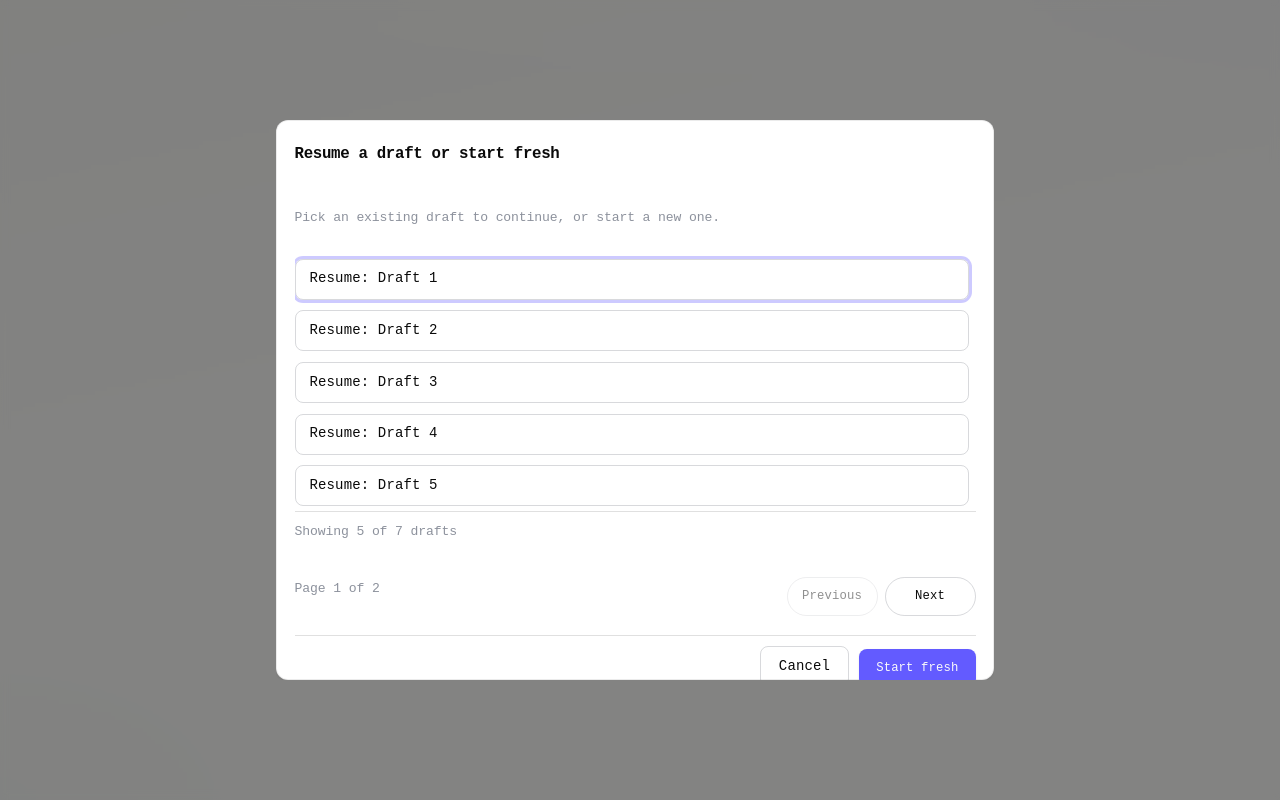
Test: DraftResumeModal › renders a paginated scrollable list of drafts
expect the list with class "draft-resume-list" is shown: met, box [294, 255, 976, 507]
expect the text "Page 1 of 2" is shown: met, box [294, 579, 380, 600]
Click the button "Next" at (930, 597), box [884, 577, 976, 616]
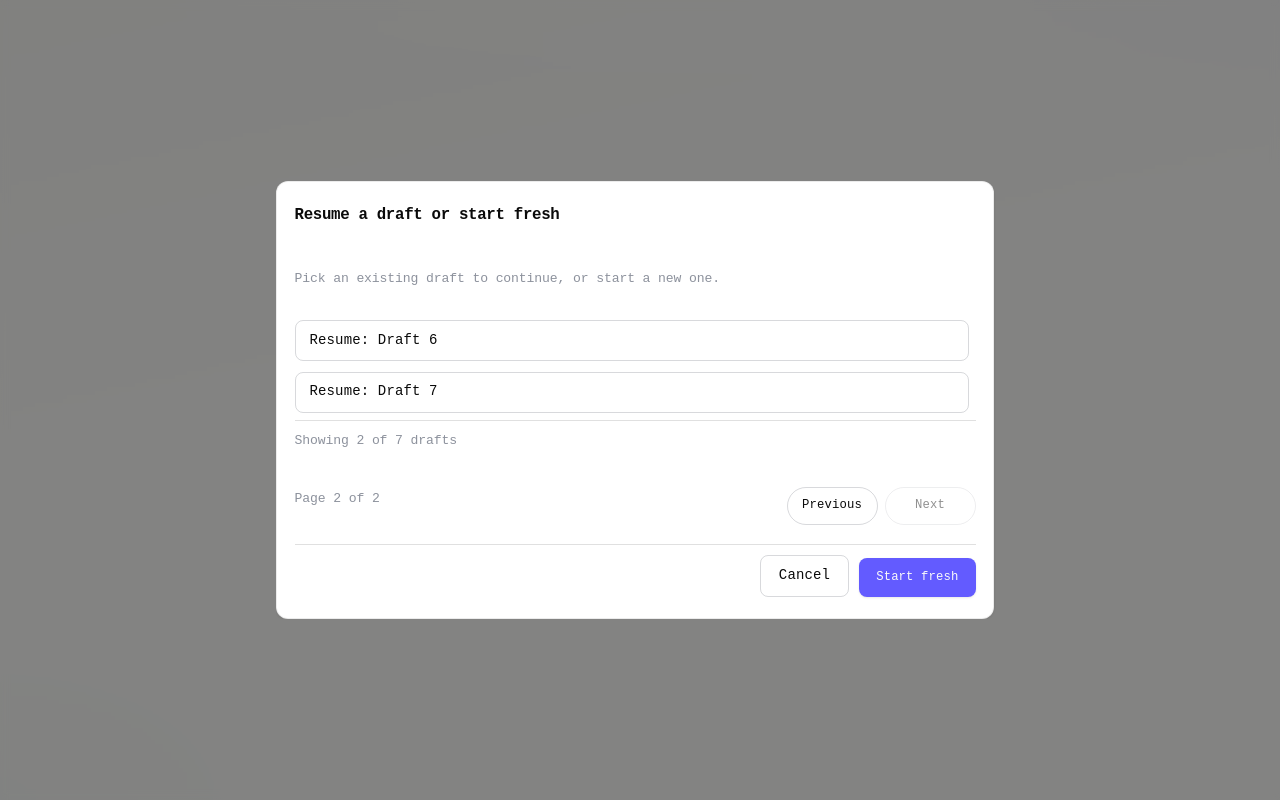
expect the text "Page 2 of 2" is shown: met, box [294, 489, 380, 509]
expect the button "Resume: Draft 6" is shown: met, box [294, 320, 968, 361]
